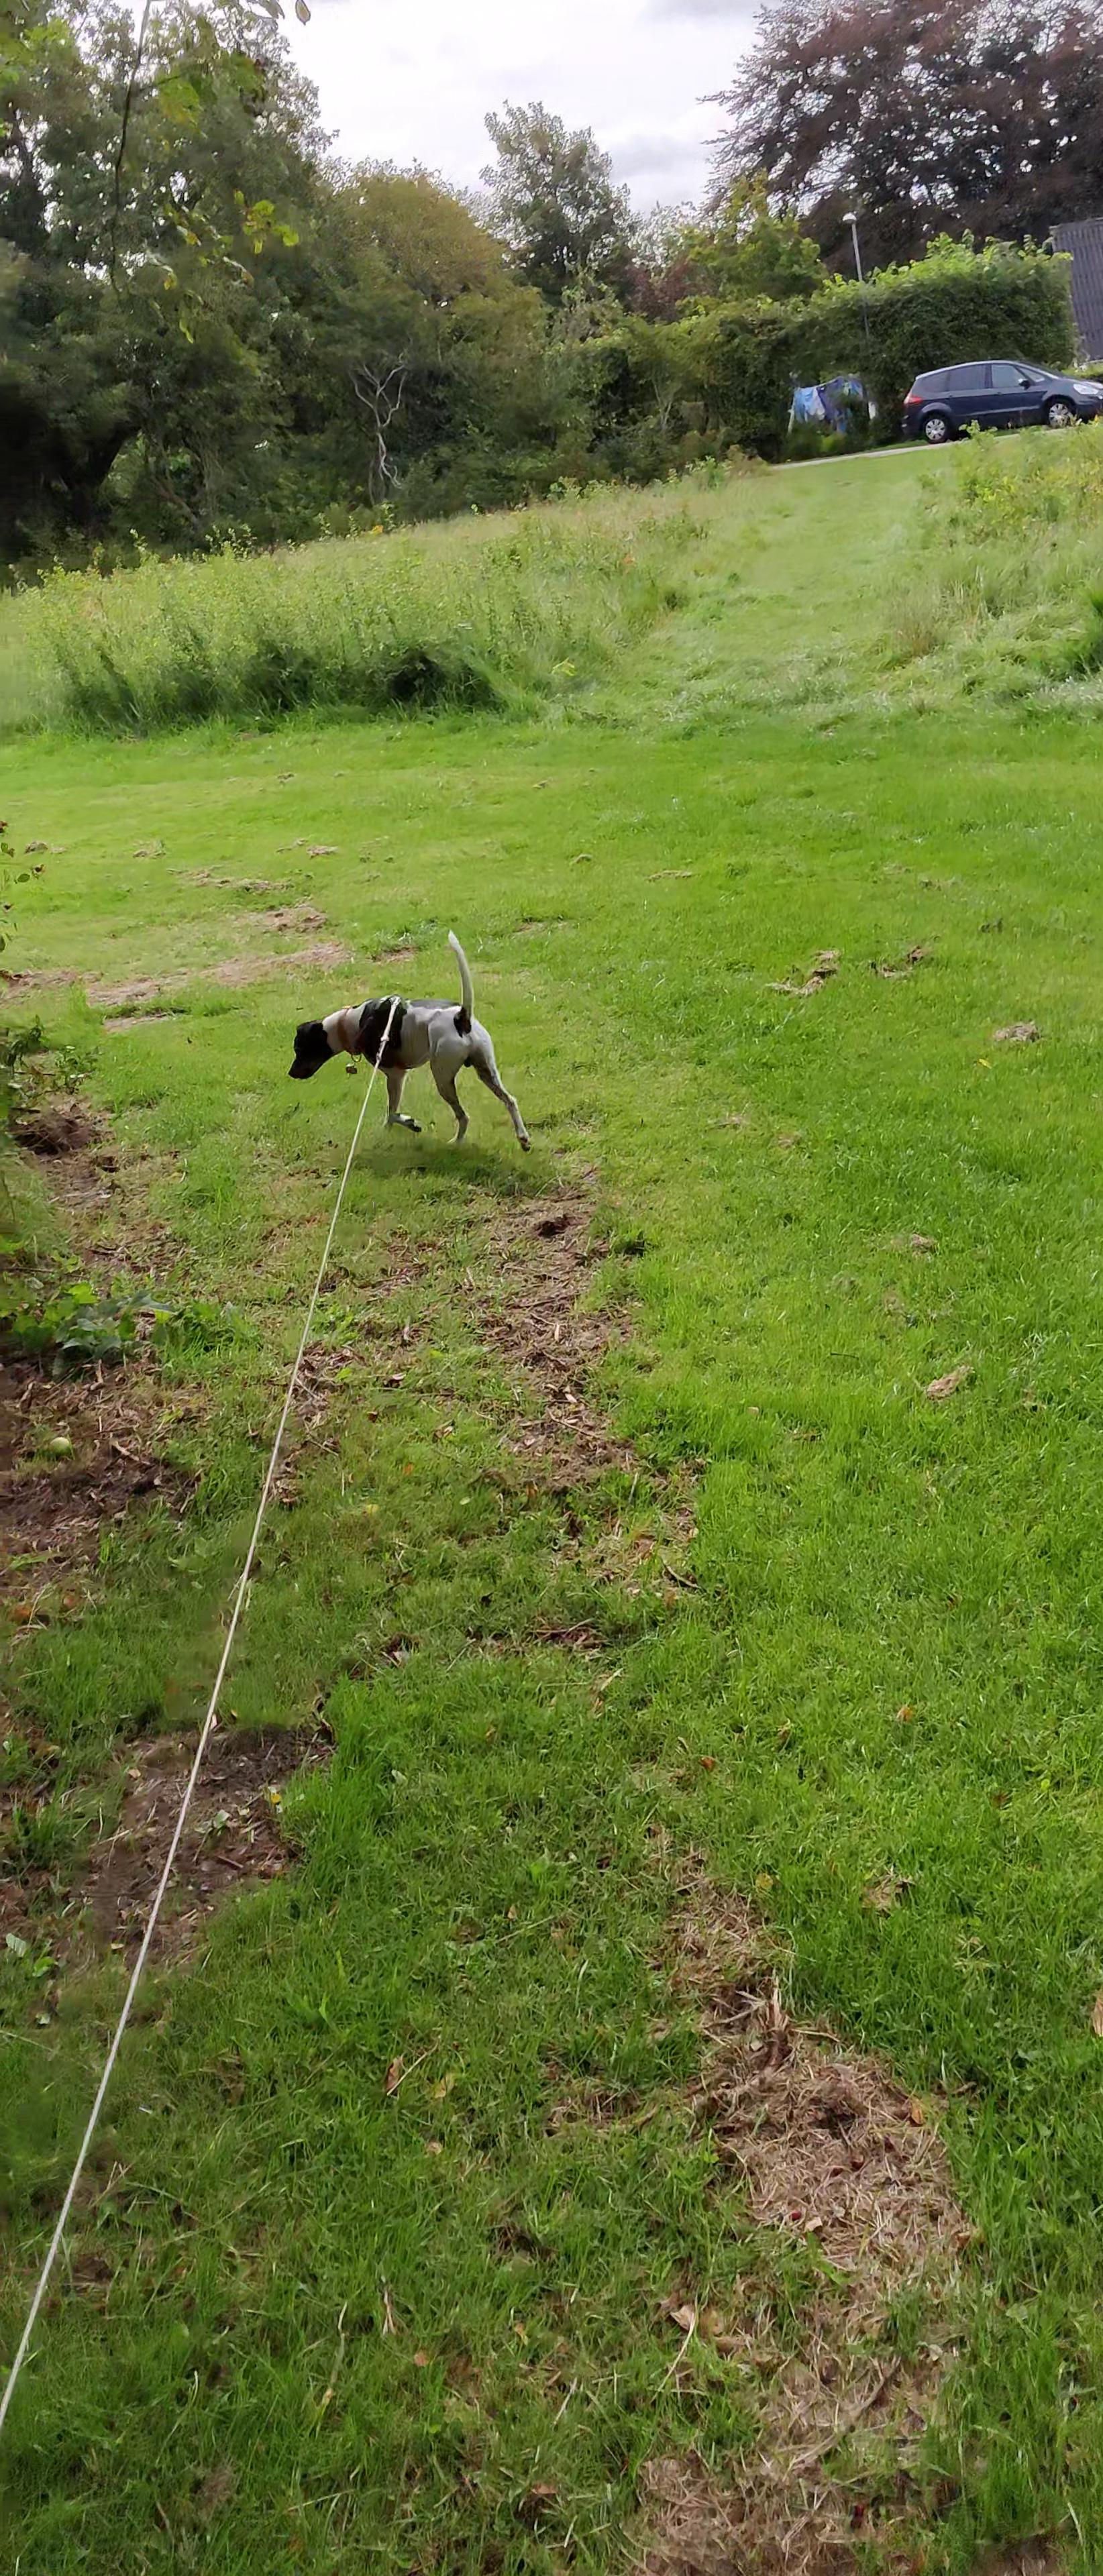Dog: (266, 920, 549, 1170)
